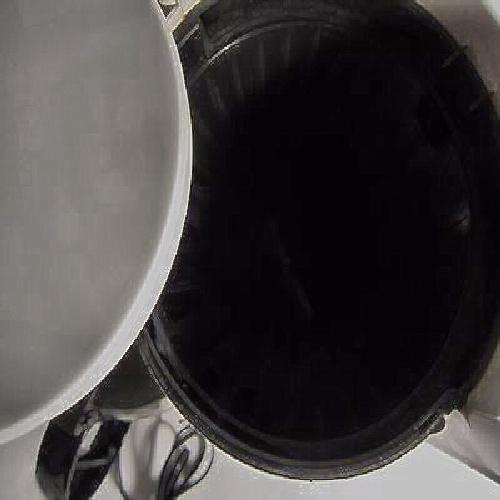toaster: (148, 17, 480, 475)
